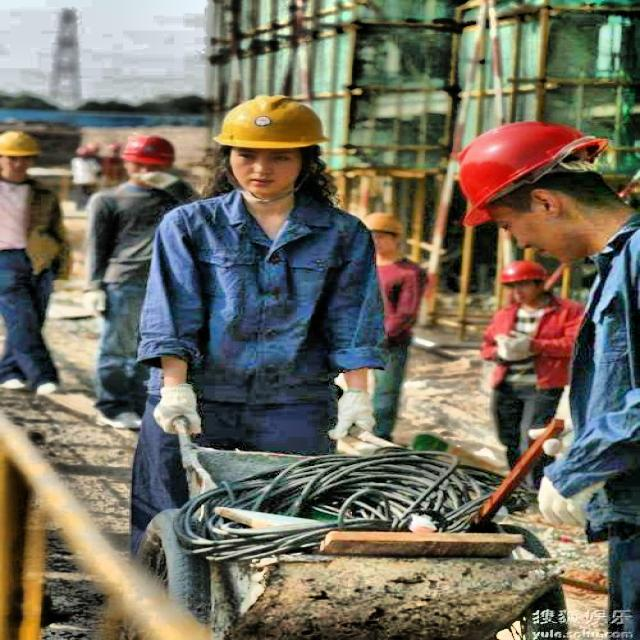helmet: (454, 122, 628, 260), (213, 94, 334, 200), (122, 136, 178, 188), (490, 259, 550, 304), (358, 212, 409, 257), (1, 130, 46, 176)
